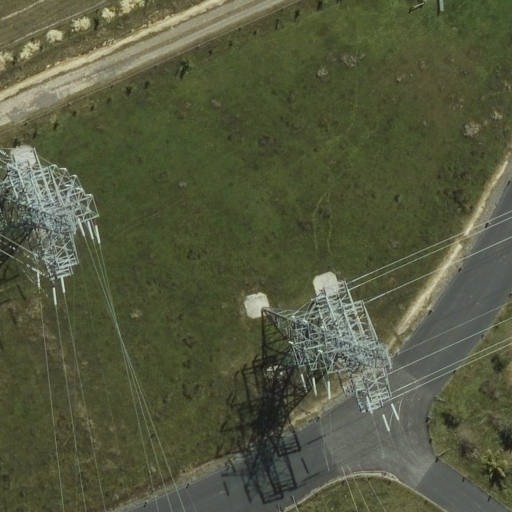TT: (1, 132, 134, 289), (257, 274, 398, 418)
